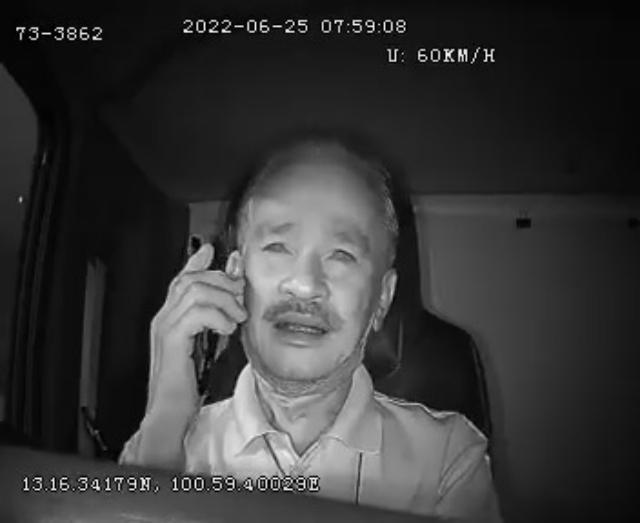PhoneUse: (184, 230, 222, 398)
SafeDriving: (319, 233, 364, 277), (254, 224, 298, 262)
